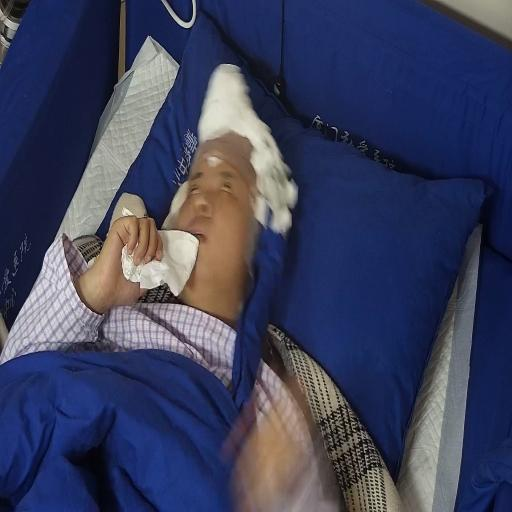Seizure: (179, 140, 265, 296)
